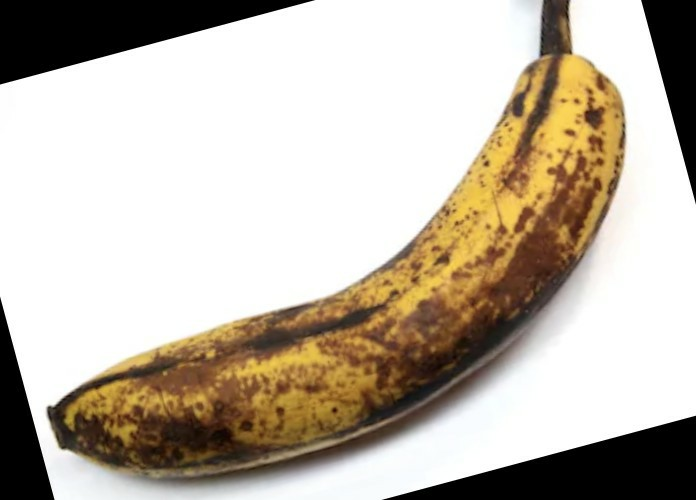rotten_banana: (55, 1, 624, 479)
